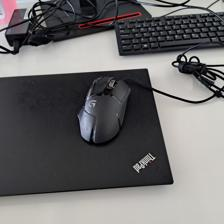mouse: (76, 75, 133, 146)
